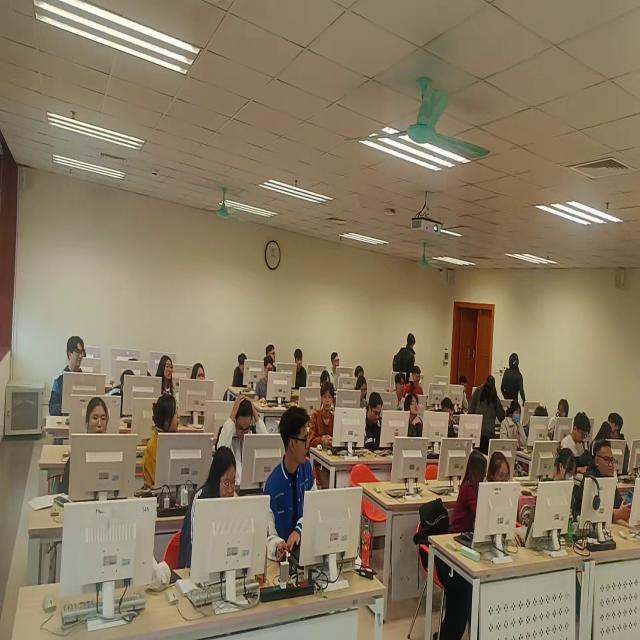raise_head: (66, 395, 121, 504), (311, 385, 347, 454), (400, 394, 434, 443), (187, 357, 216, 411), (157, 355, 180, 401), (293, 346, 315, 391), (391, 373, 410, 407), (332, 353, 347, 386)
stand: (474, 372, 501, 459), (501, 354, 527, 422), (396, 329, 415, 394)
using_computer: (183, 448, 251, 590), (221, 396, 274, 492), (487, 456, 529, 549), (546, 450, 585, 539), (363, 396, 400, 454), (436, 397, 471, 458), (506, 402, 543, 458), (255, 358, 291, 414), (108, 369, 146, 422), (230, 352, 259, 394), (406, 369, 438, 407), (567, 416, 596, 455), (453, 379, 477, 414), (357, 377, 370, 409)
using_phone: (582, 445, 640, 531)
